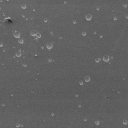corrosion: (11, 28, 22, 40), (30, 28, 42, 39), (101, 52, 111, 63), (15, 49, 25, 59), (3, 16, 13, 26), (84, 12, 93, 22), (46, 41, 54, 51), (83, 75, 91, 84), (20, 3, 28, 11), (122, 117, 128, 127), (93, 119, 101, 126), (94, 56, 101, 64), (21, 62, 29, 69), (46, 55, 53, 63), (17, 38, 25, 45), (42, 17, 49, 24), (77, 79, 84, 86), (80, 31, 88, 37), (71, 19, 76, 25), (98, 33, 103, 39), (40, 45, 45, 51), (113, 15, 117, 22), (74, 93, 79, 98), (95, 7, 100, 12), (50, 112, 54, 117), (32, 8, 36, 12), (1, 43, 4, 47)
